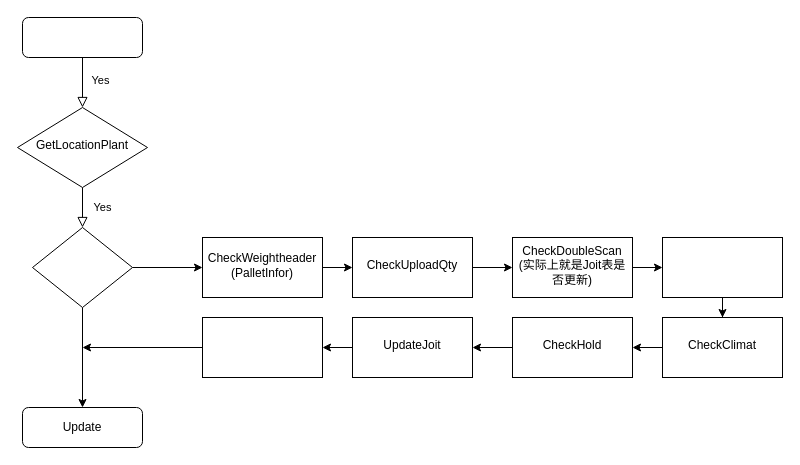
Some shapes in this 800 by 465 pixel diagram are drawn without their labels. The shapes that lost their labels are listed below. From the top down, each one's centre as x and y in pixels, then its label:
At pixel 82 37: "UploadSDBy Pallid".
At pixel 82 267: "Upload".
At pixel 722 267: "CheckMutiOrSig".
At pixel 262 347: "autoUpload()".
